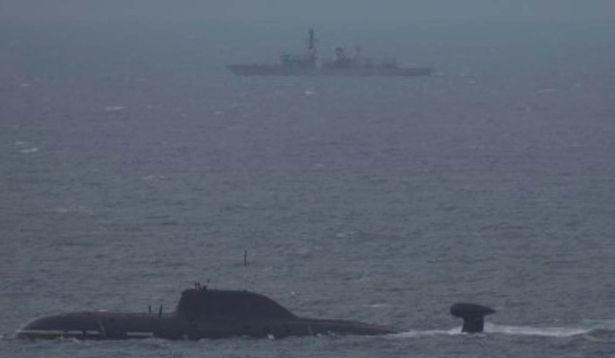MIL_Ship: (226, 26, 435, 80)
